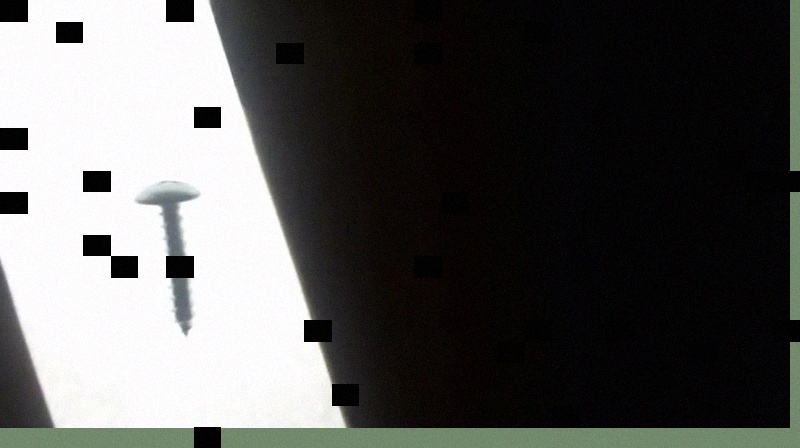S003: (130, 176, 204, 336)
